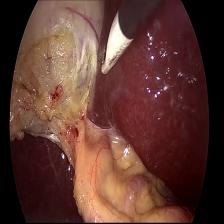Hook: (100, 3, 132, 80)
